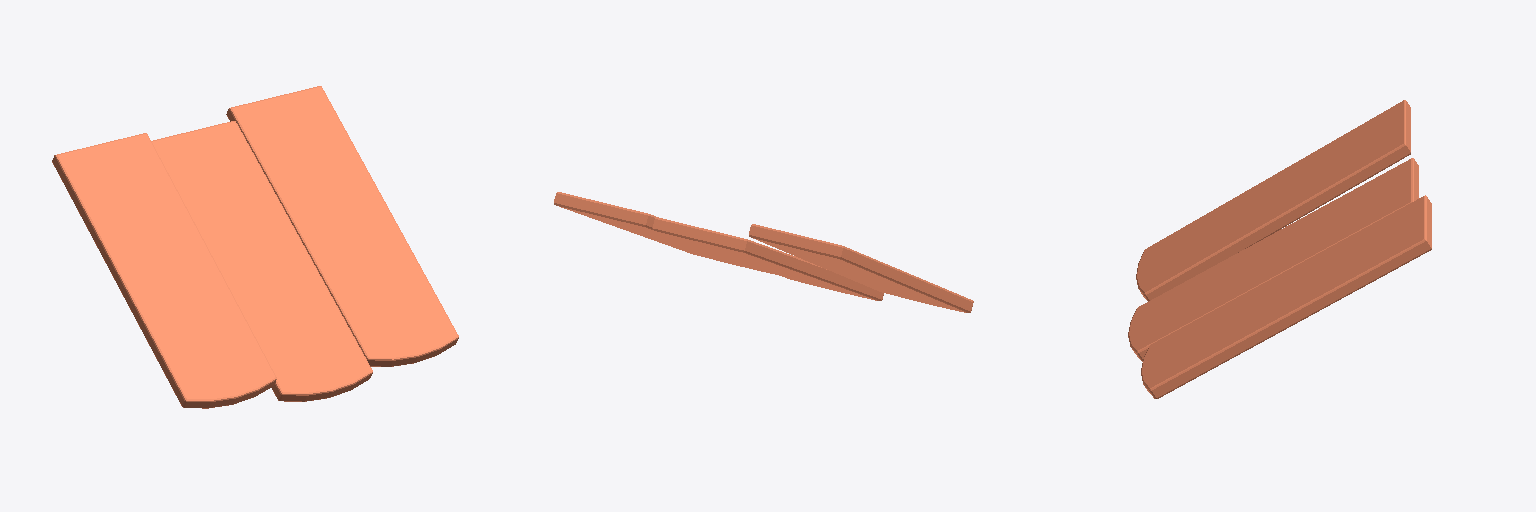
Rendered from StallPlanksTexture.obj.
The picture shows the model from 3 angles: view 1: azimuth 30°, elevation 25°; view 2: azimuth 150°, elevation 25°; view 3: azimuth 270°, elevation 25°; orthographic projection.
Parts seen in each view (by area): view 1: StallShade StallShadePlank1, StallShadePlank3 StallShade, StallShade StallShadePlank2; view 2: StallShade StallShadePlank1, StallShade StallShadePlank2, StallShadePlank3 StallShade; view 3: StallShadePlank3 StallShade, StallShade StallShadePlank1, StallShade StallShadePlank2.
Part boxes in pixels (left/top/right/bottom): StallShade StallShadePlank1: left=52, top=133, right=276, bottom=408; StallShadePlank3 StallShade: left=226, top=86, right=458, bottom=366; StallShade StallShadePlank2: left=152, top=121, right=372, bottom=401; StallShade StallShadePlank1: left=749, top=224, right=973, bottom=312; StallShade StallShadePlank2: left=652, top=217, right=883, bottom=300; StallShadePlank3 StallShade: left=554, top=192, right=775, bottom=274; StallShadePlank3 StallShade: left=1141, top=195, right=1431, bottom=398; StallShade StallShadePlank1: left=1136, top=100, right=1410, bottom=301; StallShade StallShadePlank2: left=1128, top=158, right=1418, bottom=361.
Bounding box in the file's own units: 1.68 × 1.03 × 1.6.